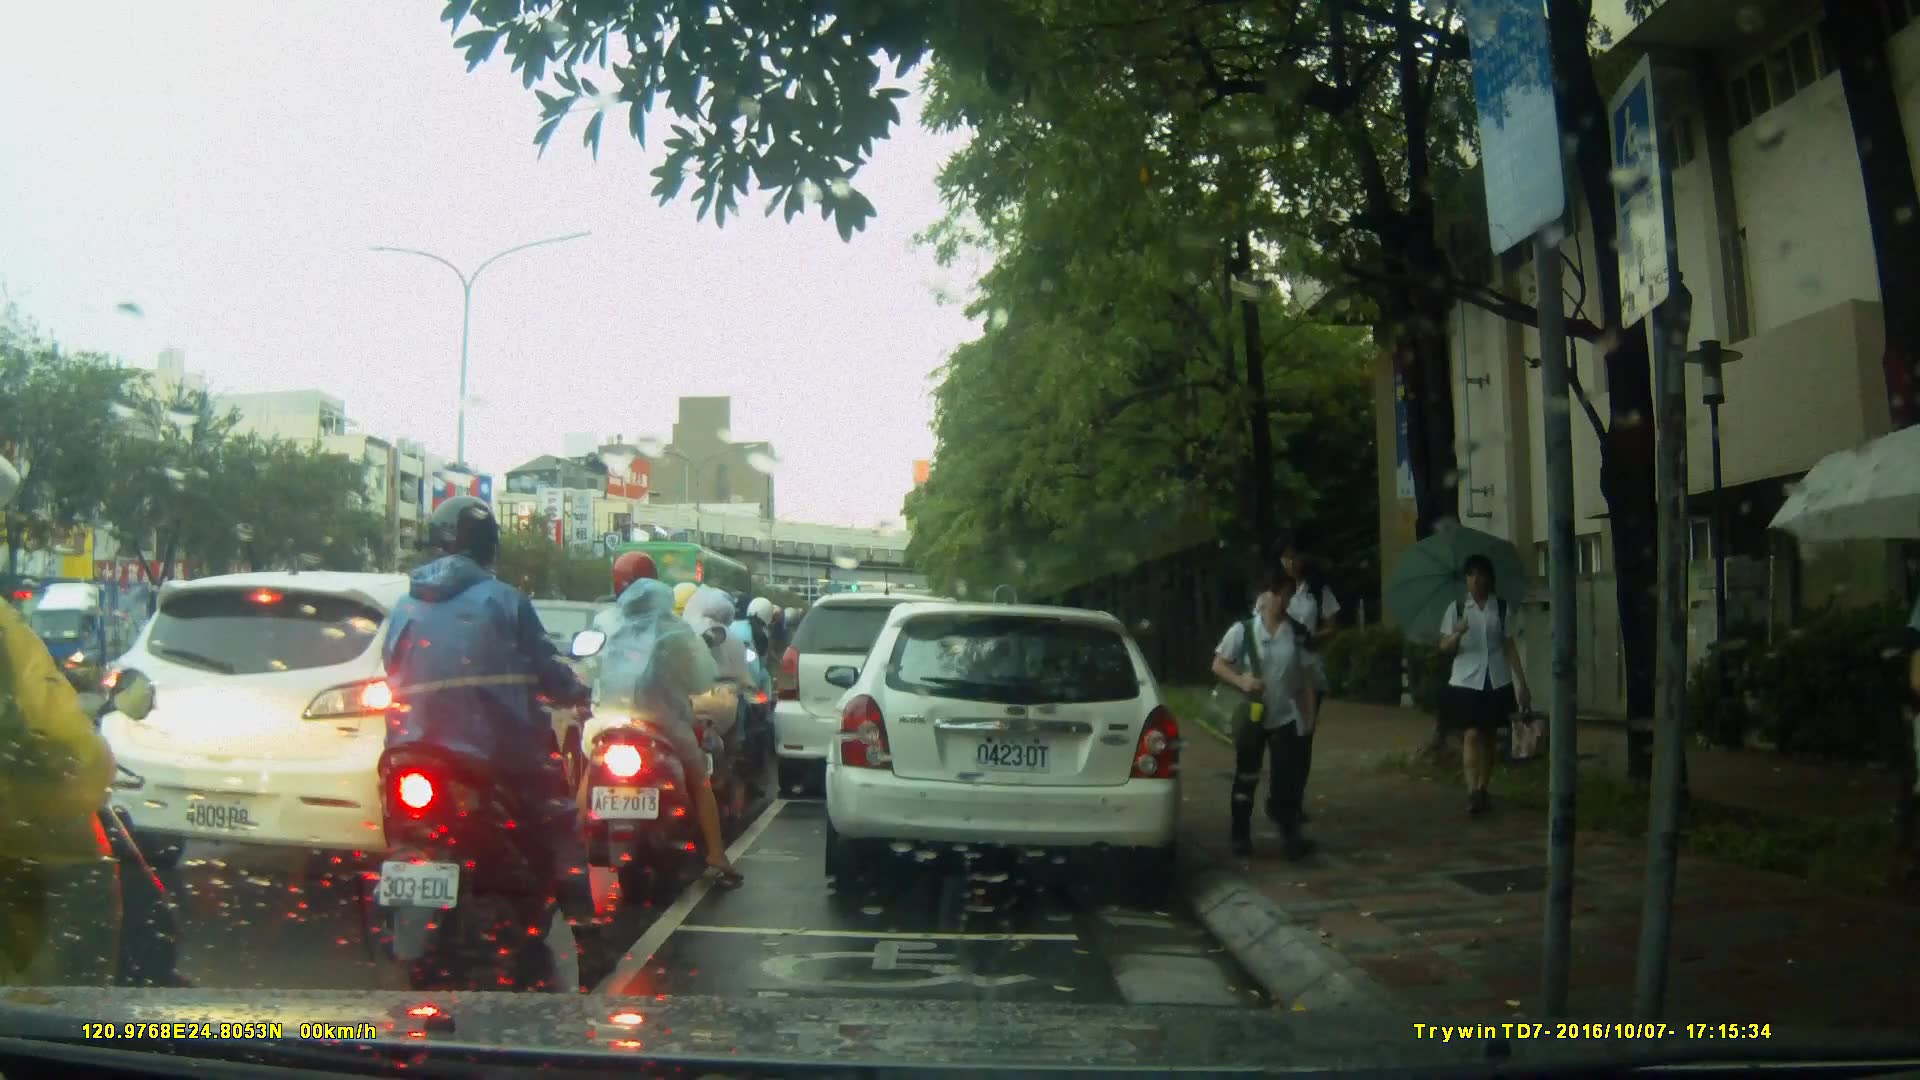pedestrian: (1210, 564, 1331, 853), (1425, 545, 1529, 825), (1258, 537, 1347, 833)
rider: (377, 489, 613, 968), (1, 455, 181, 1080), (562, 554, 746, 903), (640, 578, 764, 823), (697, 594, 780, 776)
vehicle: (94, 569, 617, 883), (822, 604, 1187, 883), (774, 595, 995, 802), (20, 576, 199, 697)
